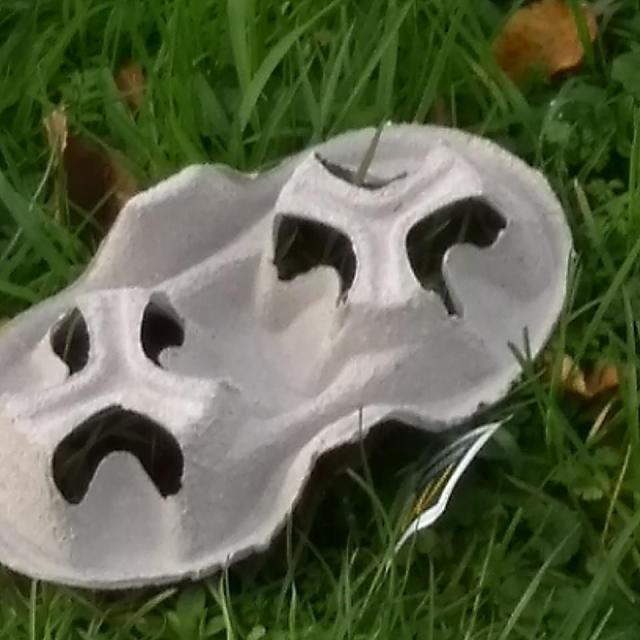Paper: (1, 119, 582, 596)
